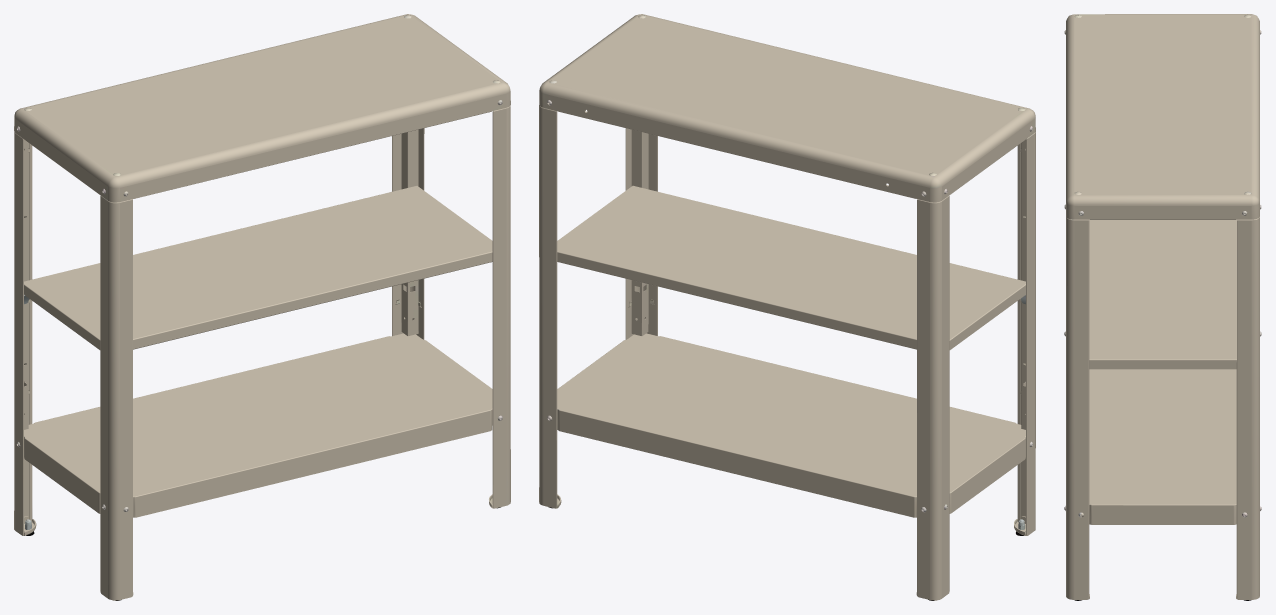
The model's file is kolbjorn-estanteria-de-interior-y-exterior-beige.glb.
3 views of the same model, side by side, from view 1: azimuth 30°, elevation 25°; view 2: azimuth 150°, elevation 25°; view 3: azimuth 270°, elevation 25° (orthographic). The views are drawn at different scales.
Visible parts, largest first — view 1: 60409294-KOLBJÃƒâ€“RN001; view 2: 60409294-KOLBJÃƒâ€“RN001; view 3: 60409294-KOLBJÃƒâ€“RN001.
Boxes of the visible parts, x1,y1,x2,y2 form: 60409294-KOLBJÃƒâ€“RN001: (14,14,510,600); 60409294-KOLBJÃƒâ€“RN001: (539,14,1035,600); 60409294-KOLBJÃƒâ€“RN001: (1064,14,1261,600).
Bounding box in the file's own units: 0.8057 × 0.8103 × 0.3557.
Materials: 1 (1 with a texture image).
